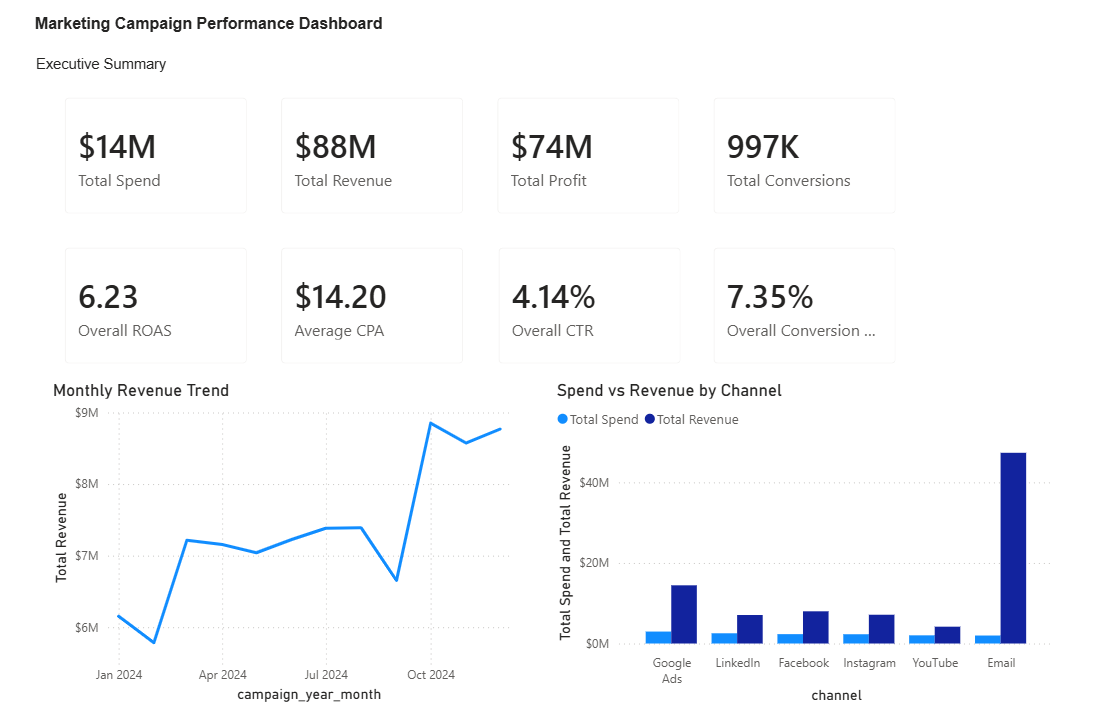

The dashboard page shown, as its layout file describes it:
{"tool":"powerbi","page":{"name":"Executive Summary","canvas":[1280,720],"ordinal":0},"visuals":[{"type":"textbox","box":[10,12.5,431.2,40],"z":0},{"type":"textbox","box":[10,52.5,216.2,31.2],"z":1000},{"type":"cardVisual","fields":{"Data":["cleaned_marketing_campaigns.Total Spend"]},"box":[65,83.8,216.2,150],"z":2000},{"type":"cardVisual","fields":{"Data":["cleaned_marketing_campaigns.Total Revenue"]},"box":[281.2,83.8,216.2,150],"z":3000},{"type":"cardVisual","fields":{"Data":["cleaned_marketing_campaigns.Total Profit"]},"box":[497.5,83.8,216.2,150],"z":4000},{"type":"cardVisual","fields":{"Data":["cleaned_marketing_campaigns.Total Conversions"]},"box":[713.8,83.8,216.2,150],"z":5000},{"type":"cardVisual","fields":{"Data":["cleaned_marketing_campaigns.Overall ROAS"]},"box":[65,233.8,216.2,150],"z":6000},{"type":"cardVisual","fields":{"Data":["cleaned_marketing_campaigns.Average CPA"]},"box":[281.2,233.8,216.2,150],"z":7000},{"type":"cardVisual","fields":{"Data":["cleaned_marketing_campaigns.Overall CTR"]},"box":[498.8,233.8,216.2,150],"z":8000},{"type":"cardVisual","fields":{"Data":["cleaned_marketing_campaigns.Overall Conversion Rate"]},"box":[713.8,233.8,216.2,150],"z":9000},{"type":"lineChart","title":"Monthly Revenue Trend","fields":{"Y":["cleaned_marketing_campaigns.Total Revenue"],"Category":["cleaned_marketing_campaigns.campaign_year_month"]},"box":[17.5,382.5,481.2,327.5],"z":10000},{"type":"clusteredColumnChart","title":"Spend vs Revenue by Channel","fields":{"Category":["cleaned_marketing_campaigns.channel"],"Y":["cleaned_marketing_campaigns.Total Spend","cleaned_marketing_campaigns.Total Revenue"]},"box":[513.8,383.8,507.5,328.8],"z":11000}]}

Visuals, with their boxes on the page's 1280x720 design canvas (x1, y1, x2, y2). These are canvas units, not pixel positions in the 1117x712 screenshot, which may show the page scaled, cropped or inside an application window:
textbox: bbox=[10, 12, 441, 52]
textbox: bbox=[10, 52, 226, 84]
cardVisual - cleaned_marketing_campaigns.Total Spend: bbox=[65, 84, 281, 234]
cardVisual - cleaned_marketing_campaigns.Total Revenue: bbox=[281, 84, 497, 234]
cardVisual - cleaned_marketing_campaigns.Total Profit: bbox=[498, 84, 714, 234]
cardVisual - cleaned_marketing_campaigns.Total Conversions: bbox=[714, 84, 930, 234]
cardVisual - cleaned_marketing_campaigns.Overall ROAS: bbox=[65, 234, 281, 384]
cardVisual - cleaned_marketing_campaigns.Average CPA: bbox=[281, 234, 497, 384]
cardVisual - cleaned_marketing_campaigns.Overall CTR: bbox=[499, 234, 715, 384]
cardVisual - cleaned_marketing_campaigns.Overall Conversion Rate: bbox=[714, 234, 930, 384]
"Monthly Revenue Trend" lineChart: bbox=[18, 382, 499, 710]
"Spend vs Revenue by Channel" clusteredColumnChart: bbox=[514, 384, 1021, 713]
